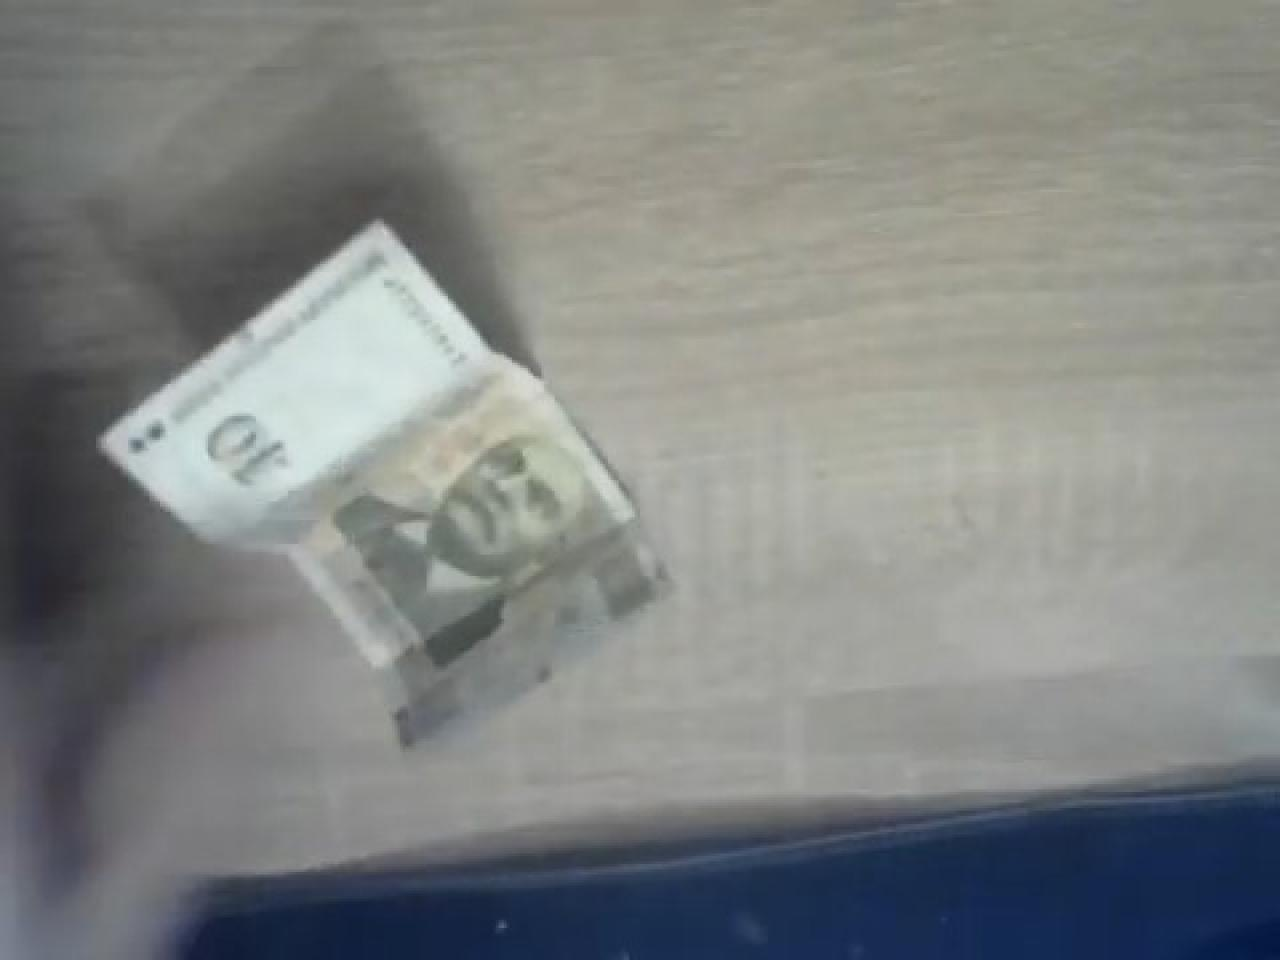10leva: (96, 216, 669, 746)
